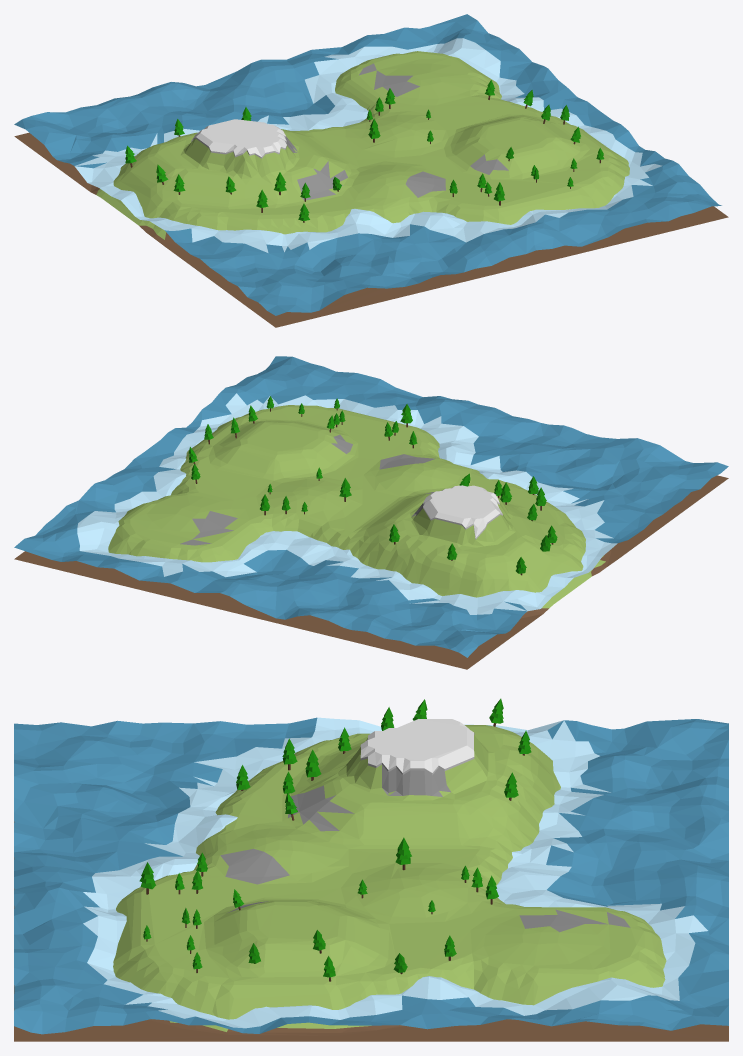
File: map.glb
3 renders of one model, top to bottom at view 1: azimuth 30°, elevation 25°; view 2: azimuth 150°, elevation 25°; view 3: azimuth 270°, elevation 25°, orthographic. The views are drawn at different scales.
Visible parts, largest first — view 1: ground, water; view 2: water, ground; view 3: water, ground.
Part boxes in pixels (x1,y1,x2,y2): ground: (14,51,728,327); water: (14,14,721,315); water: (14,356,728,657); ground: (14,405,728,669); water: (14,717,728,1034); ground: (14,719,728,1041).
Size of the model in its own units: 40.01 by 4.79 by 40.01.
Materials: 1 (1 with a texture image).
